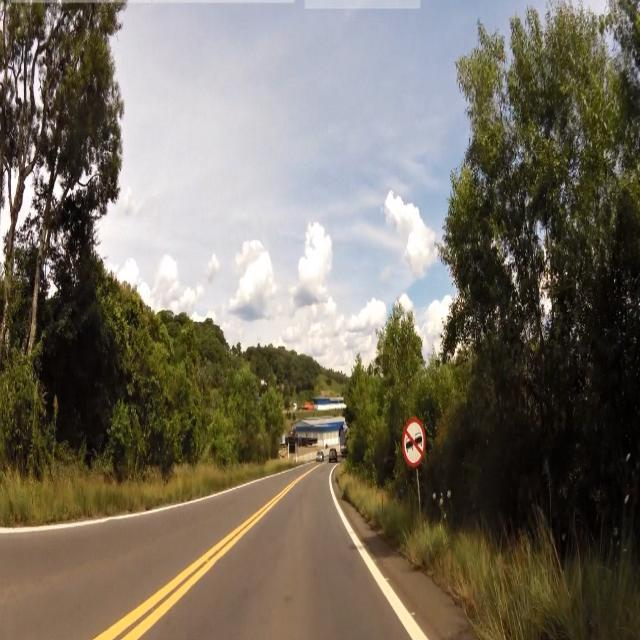R-7: (397, 412, 432, 466)
